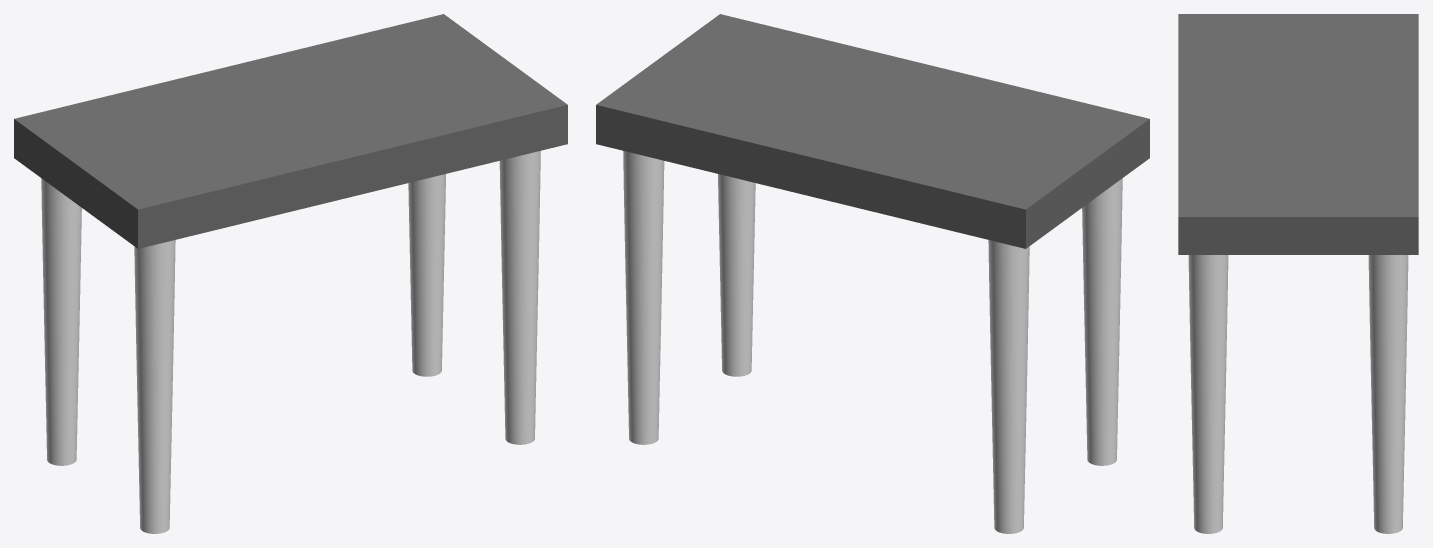
The model's file is desk1_modern.glb.
3 views of the same model, side by side, from view 1: azimuth 30°, elevation 25°; view 2: azimuth 150°, elevation 25°; view 3: azimuth 270°, elevation 25° (orthographic). The views are drawn at different scales.
Visible parts, largest first — view 1: Box002; view 2: Box002; view 3: Box002.
Boxes of the visible parts, x1=… form: Box002: x1=14, y1=14, x2=567, y2=533; Box002: x1=596, y1=14, x2=1149, y2=533; Box002: x1=1178, y1=14, x2=1418, y2=533.
Size of the model in its own units: 0.16 by 0.12 by 0.08.
1 material, 1 textured.
